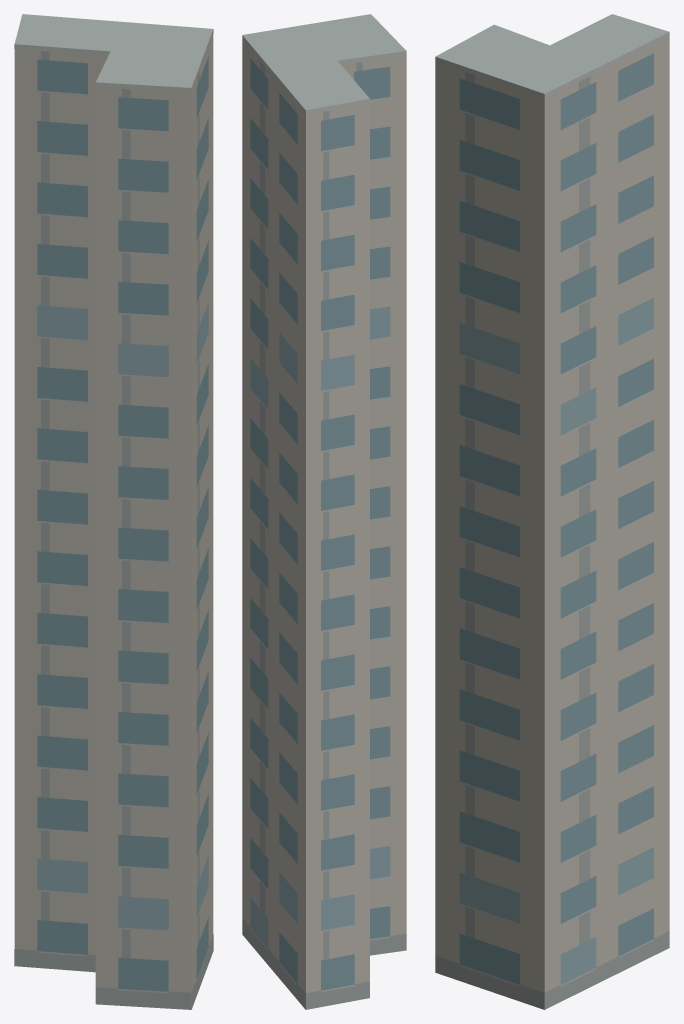
The model's file is survey-upis-32838202.glb.
3 views of the same model, side by side, from view 1: azimuth 30°, elevation 25°; view 2: azimuth 150°, elevation 25°; view 3: azimuth 270°, elevation 25° (orthographic). The views are drawn at different scales.
Parts seen in each view (by area): view 1: survey-upis-32838202.tmp; view 2: survey-upis-32838202.tmp; view 3: survey-upis-32838202.tmp.
Boxes of the visible parts, x1,y1,x2,y2 form: survey-upis-32838202.tmp: (14,14,213,1009); survey-upis-32838202.tmp: (242,14,406,1009); survey-upis-32838202.tmp: (435,14,669,1009).
Size of the model in its own units: 8.57 by 45.75 by 10.62.
